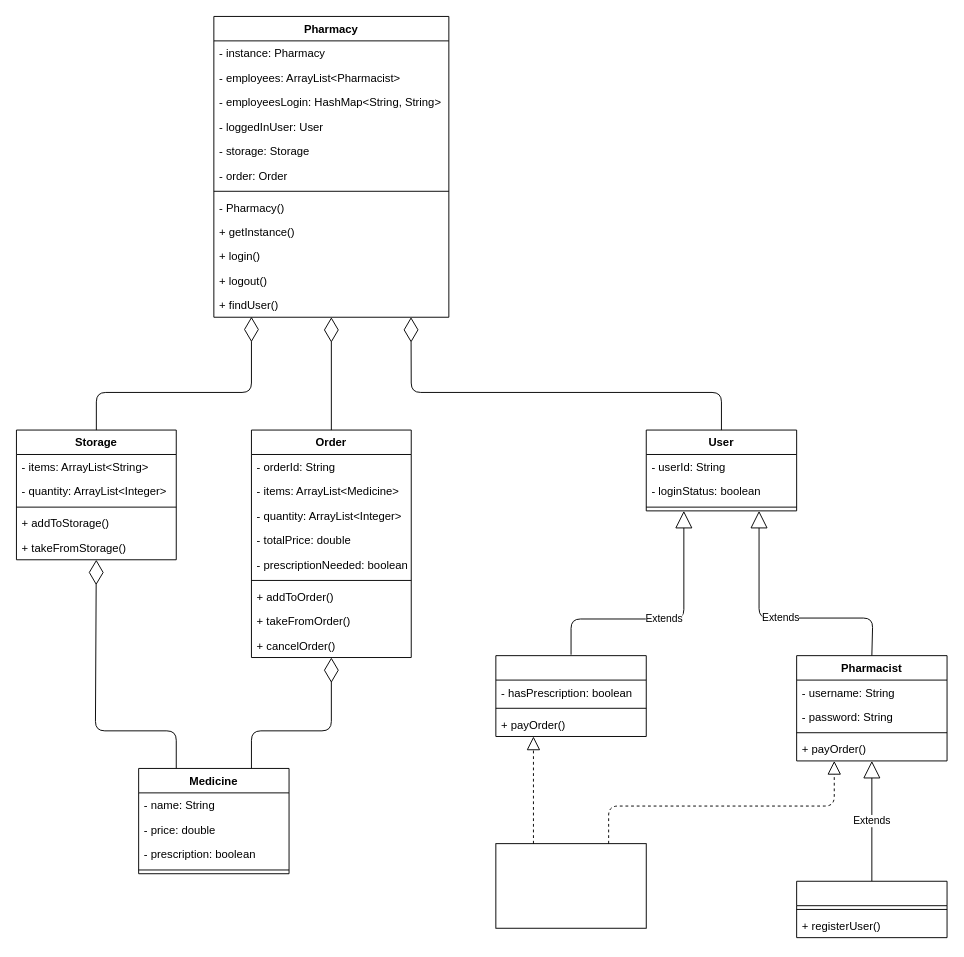
The diagram is 964 pixels wide and 957 high, and some of its shapes have lost their labels. Each missing label, with the box of its shape:
Customer: (495, 655, 646, 736)
Headpharmacist: (796, 880, 947, 938)
«interface» Payment payOrder(Order order);: (495, 843, 646, 928)
